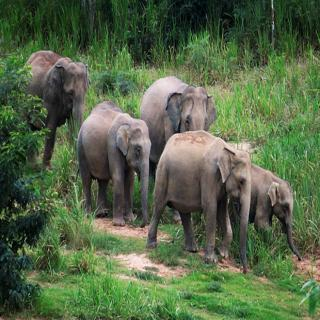Elephant: (147, 127, 257, 282), (12, 45, 94, 180), (75, 103, 152, 229), (138, 71, 216, 166), (250, 153, 304, 264)
